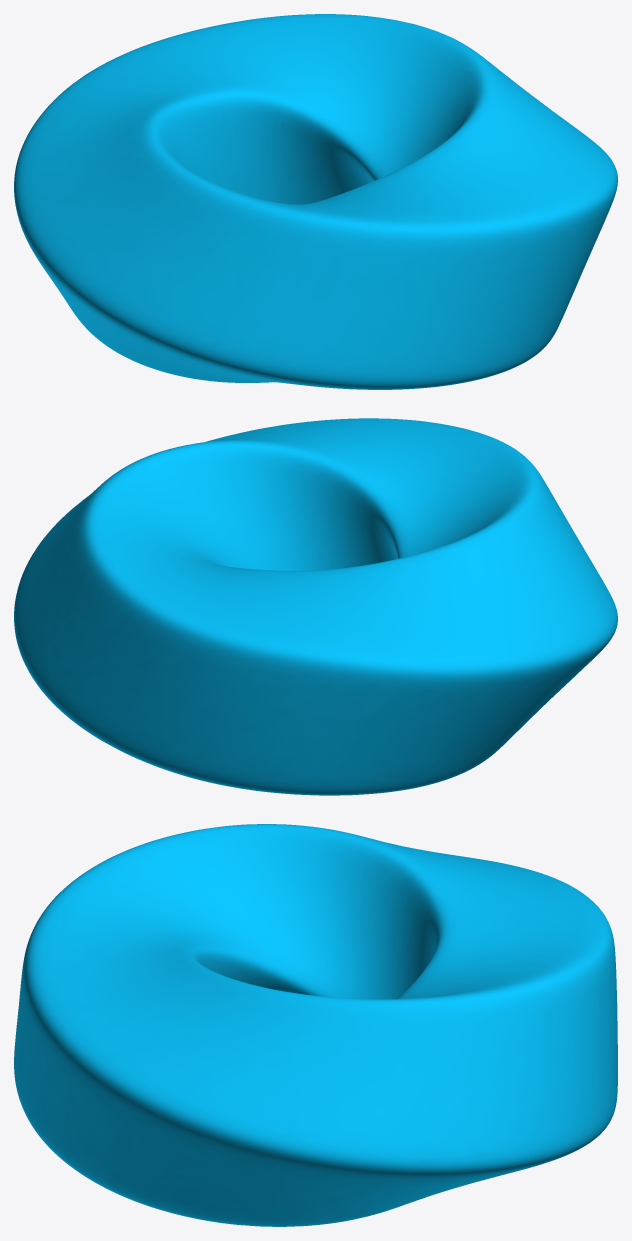
The model's file is mobius-strip.glb.
3 renders of one model, top to bottom at view 1: azimuth 30°, elevation 25°; view 2: azimuth 150°, elevation 25°; view 3: azimuth 270°, elevation 25°, orthographic. The views are drawn at different scales.
Parts seen in each view (by area): view 1: Cube_Material_0; view 2: Cube_Material_0; view 3: Cube_Material_0.
Part boxes in pixels (x1,y1,x2,y2): Cube_Material_0: (14,14,617,389); Cube_Material_0: (14,418,617,795); Cube_Material_0: (14,824,617,1226).
Bounding box in the file's own units: 674 × 255 × 624.
